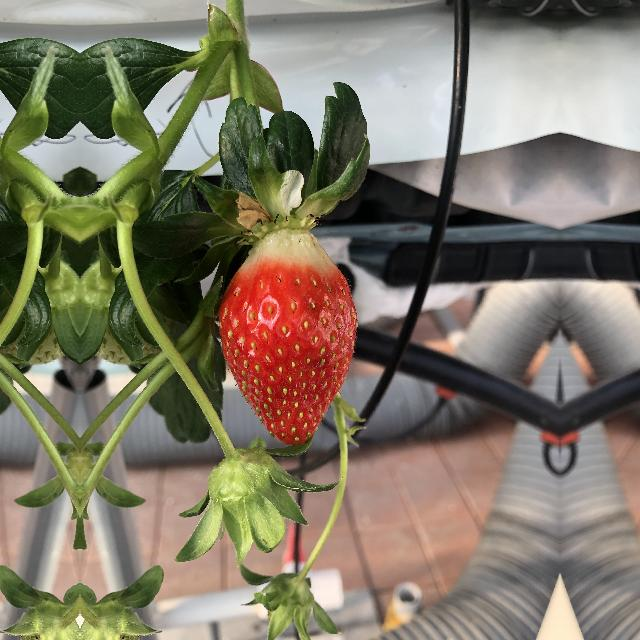Health_100: (210, 230, 364, 450)
